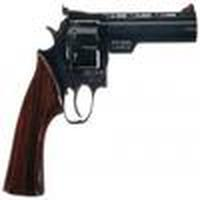gun: (7, 10, 197, 200)
